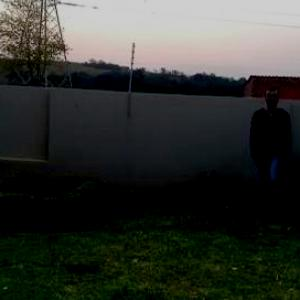follow: (238, 89, 291, 208)
